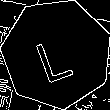L_N: (33, 24, 80, 83)
